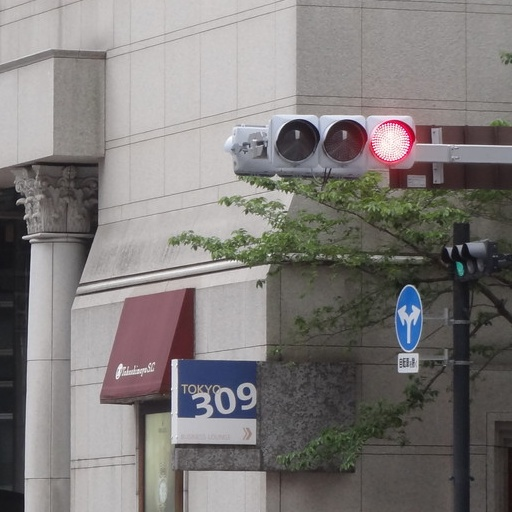Traffic_Signal_Red: (271, 111, 420, 169)
